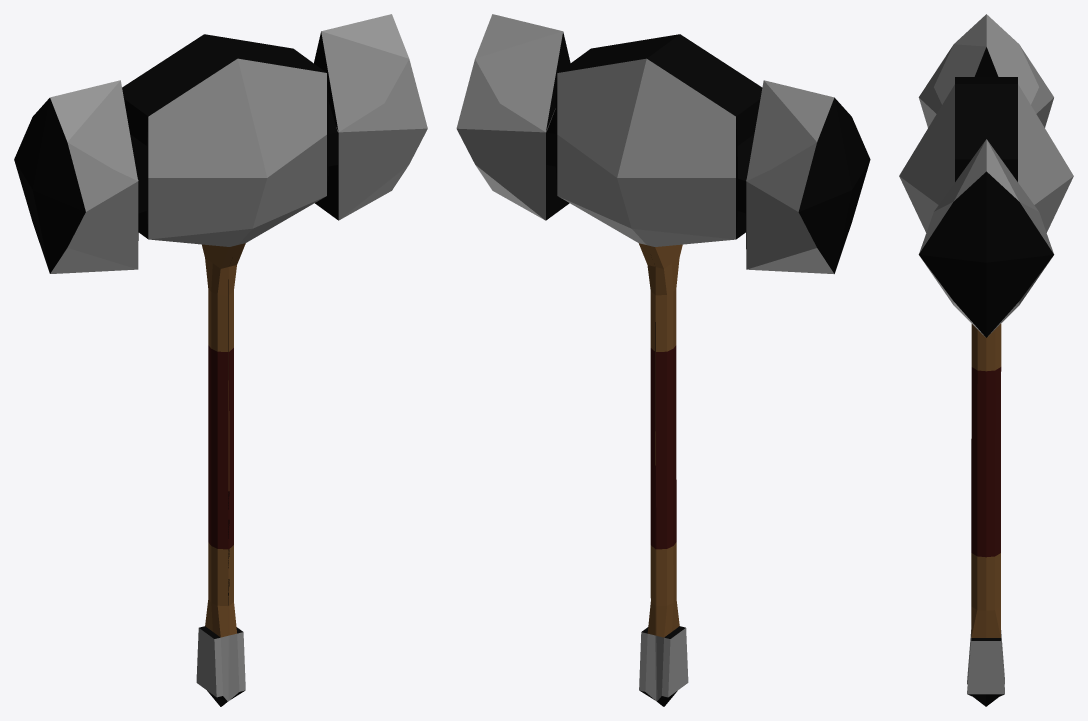
File: weapon_warhammer.glb
The picture shows the model from 3 angles, left to right: view 1: azimuth 30°, elevation 25°; view 2: azimuth 150°, elevation 25°; view 3: azimuth 270°, elevation 25°; orthographic projection. The views are drawn at different scales.
Parts seen in each view (by area): view 1: weapon_warhammer; view 2: weapon_warhammer; view 3: weapon_warhammer.
Boxes of the visible parts, x1=… form: weapon_warhammer: x1=14, y1=14, x2=427, y2=706; weapon_warhammer: x1=456, y1=14, x2=870, y2=706; weapon_warhammer: x1=899, y1=14, x2=1073, y2=706.
Size of the model in its own units: 0.6804 by 1.14 by 0.2901.
